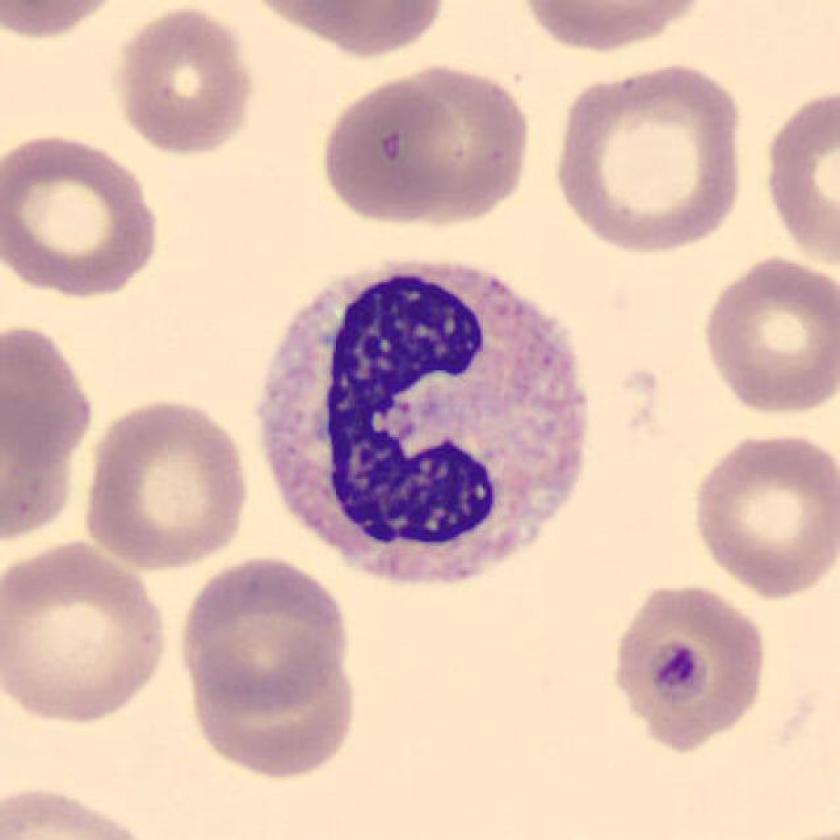neutrophil: (264, 261, 588, 584)
